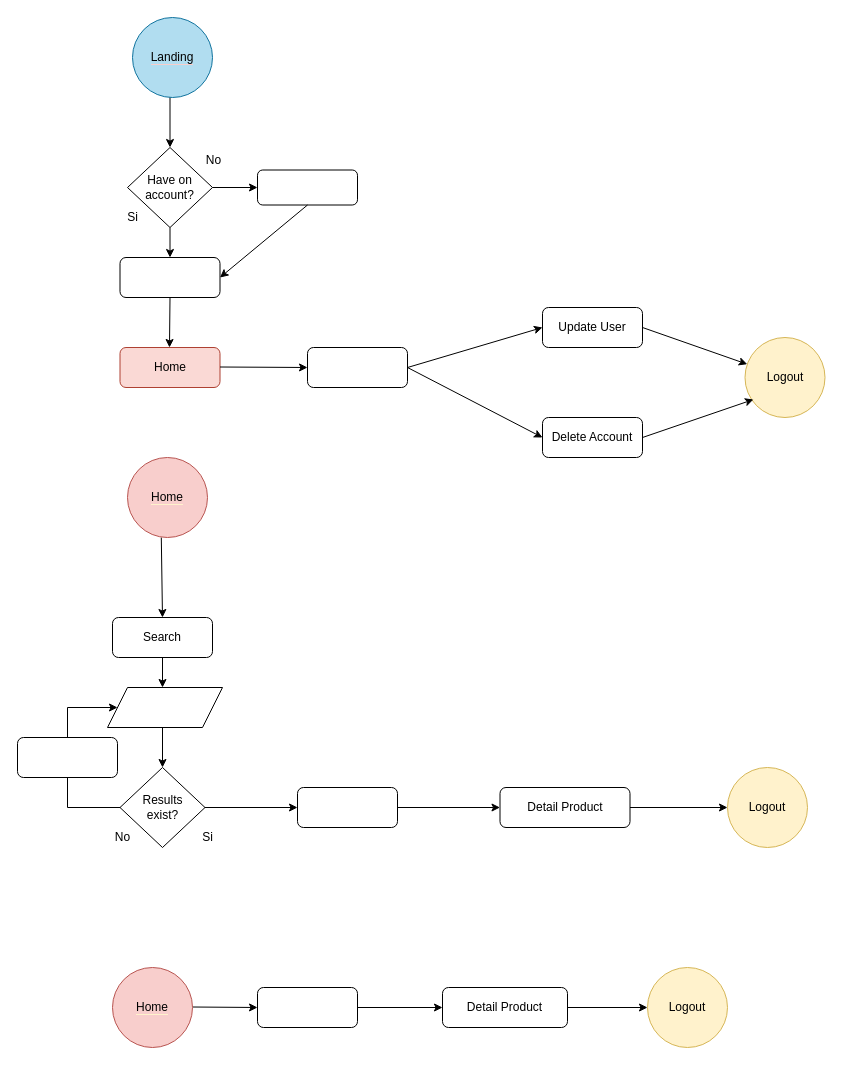
This 843x1065 diagram has some shape labels left out. Here are the shapes that lost their labels. From the top down, the centre of each, then its label:
[307,187]: Register
[169,277]: Login
[357,367]: Profile
[164,707]: Query
[67,757]: Show Feedback
[347,807]: Results list
[307,1007]: Quiz
